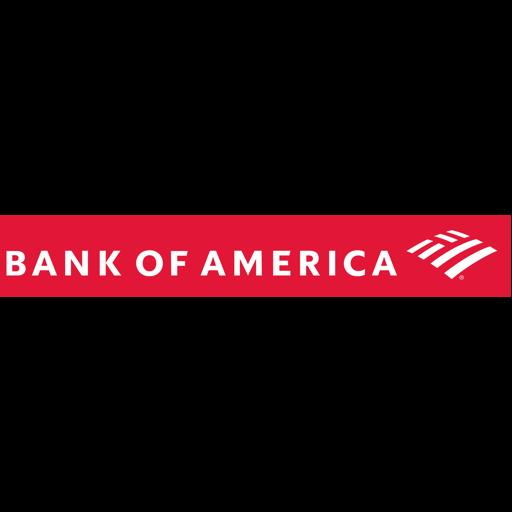Bank of America: (0, 215, 511, 297)
